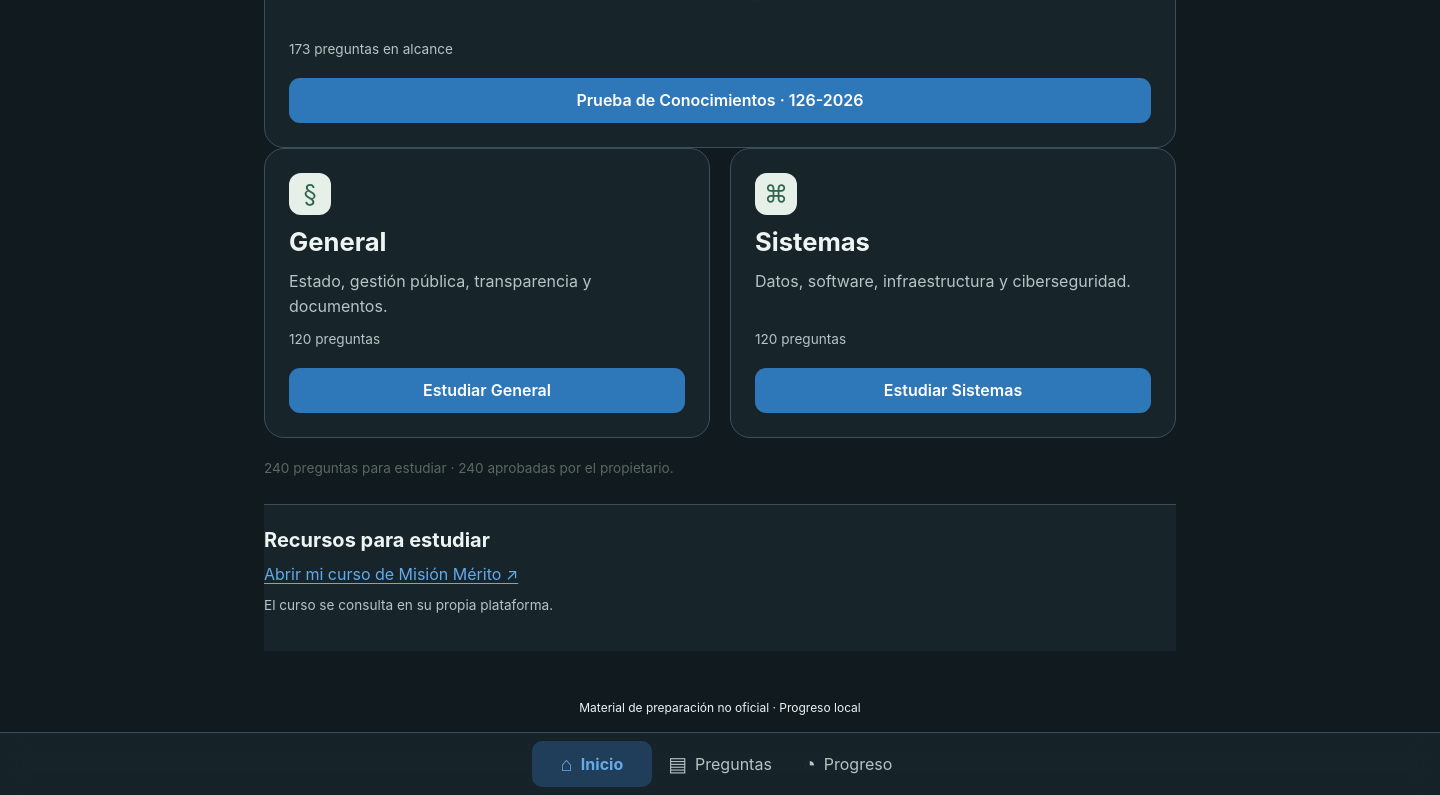
Test: estudio y simuladores móviles › filtra el estudio al alcance de la convocatoria
This screenshot has width=1440, height=795.
(page scrolled)
Click the button "Estudiar General": {"x": 487, "y": 391} [289,368,685,413]
(page scrolled)
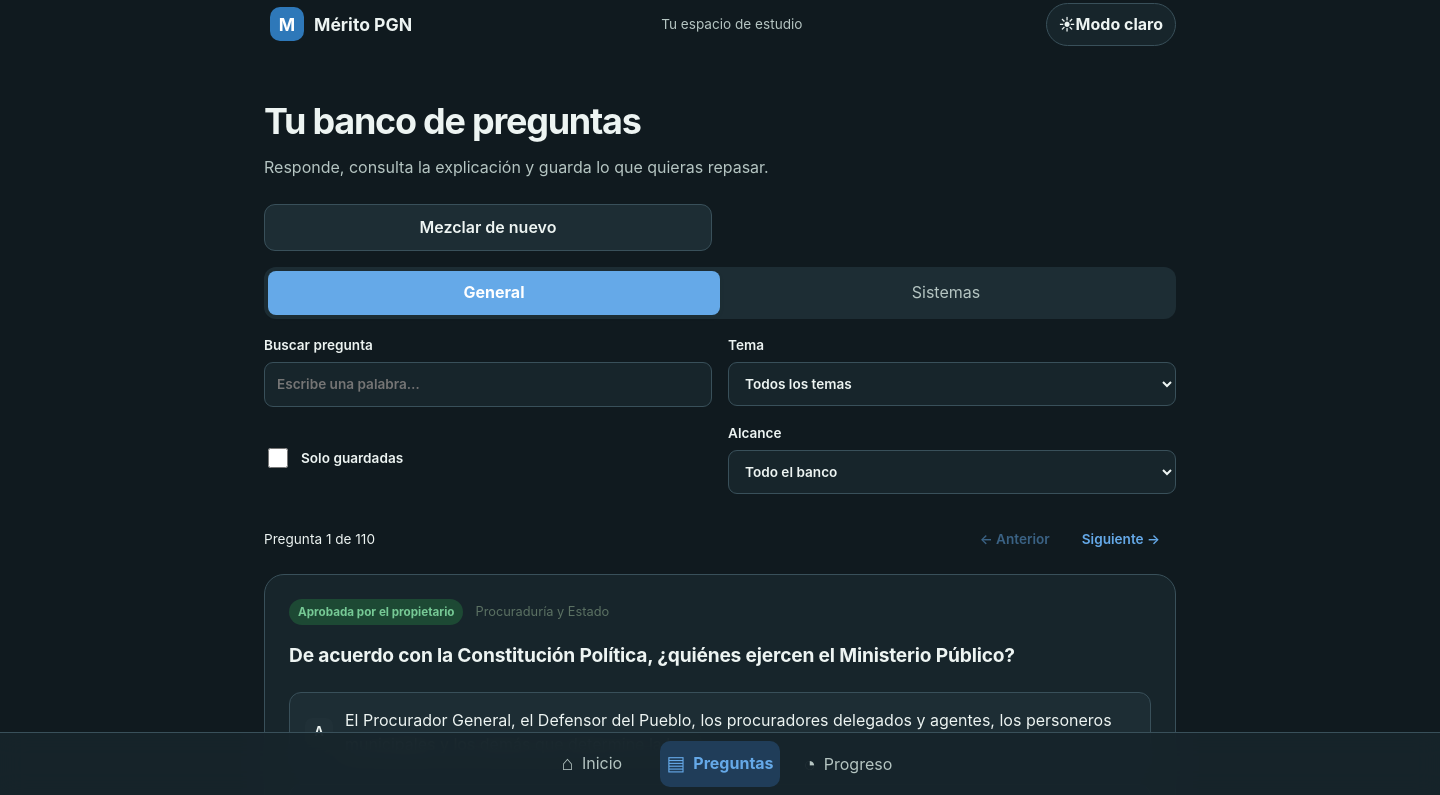
In the search field labelled "Buscar pregunta": {"x": 488, "y": 384} [264,362,712,407], type "En una licitación se oculta el informe de evaluación hasta adjudicar. ¿Qué derecho de los interesados se está impidiendo?"
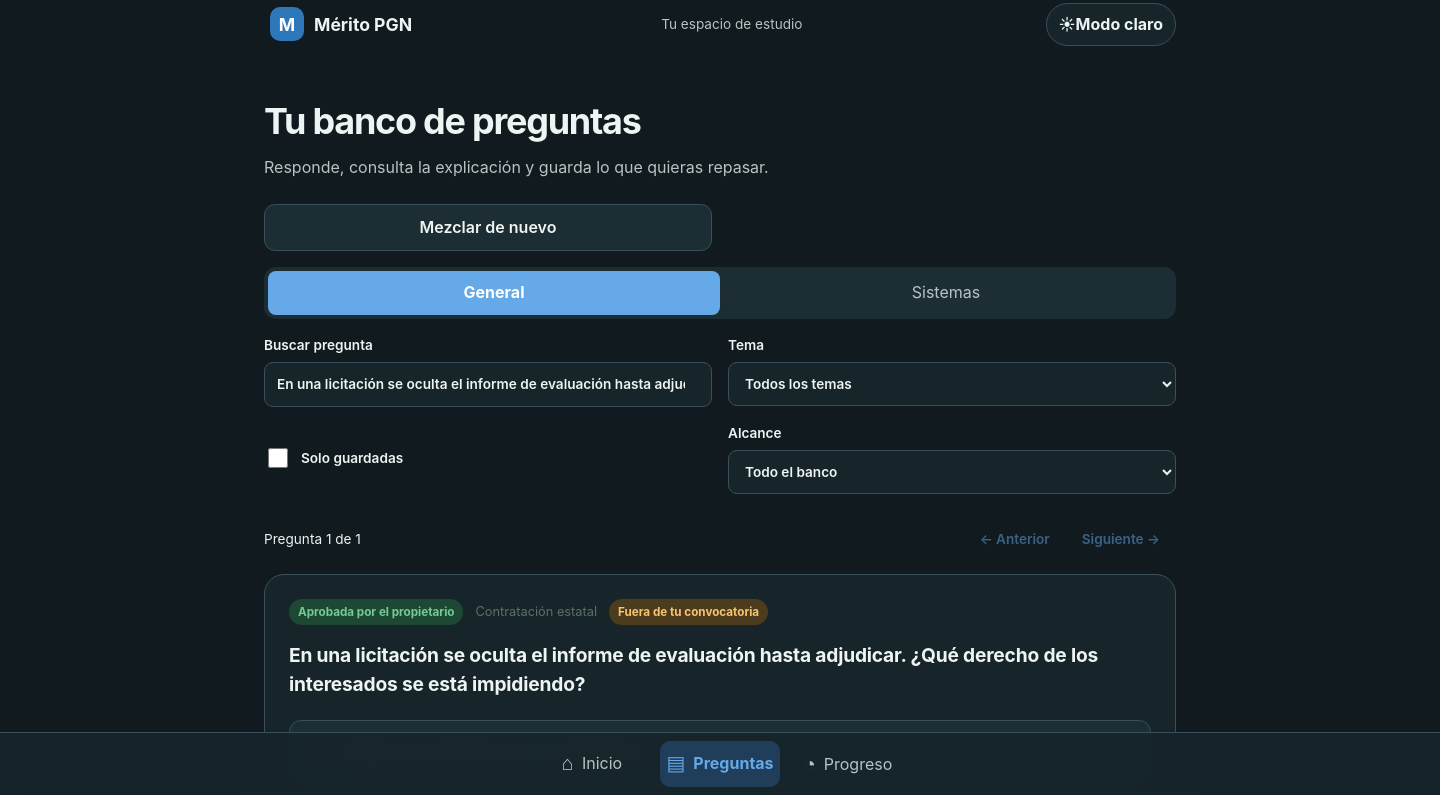
Now the heading named "En una licitación se oculta el informe de evaluación hasta adjudicar. ¿Qué derecho de los interesados se está impidiendo" is shown, box [289,641,1151,698]
Select "Solo mi convocatoria 126-2026" in the dropdown labelled "Alcance": {"x": 952, "y": 472} [728,450,1176,494]
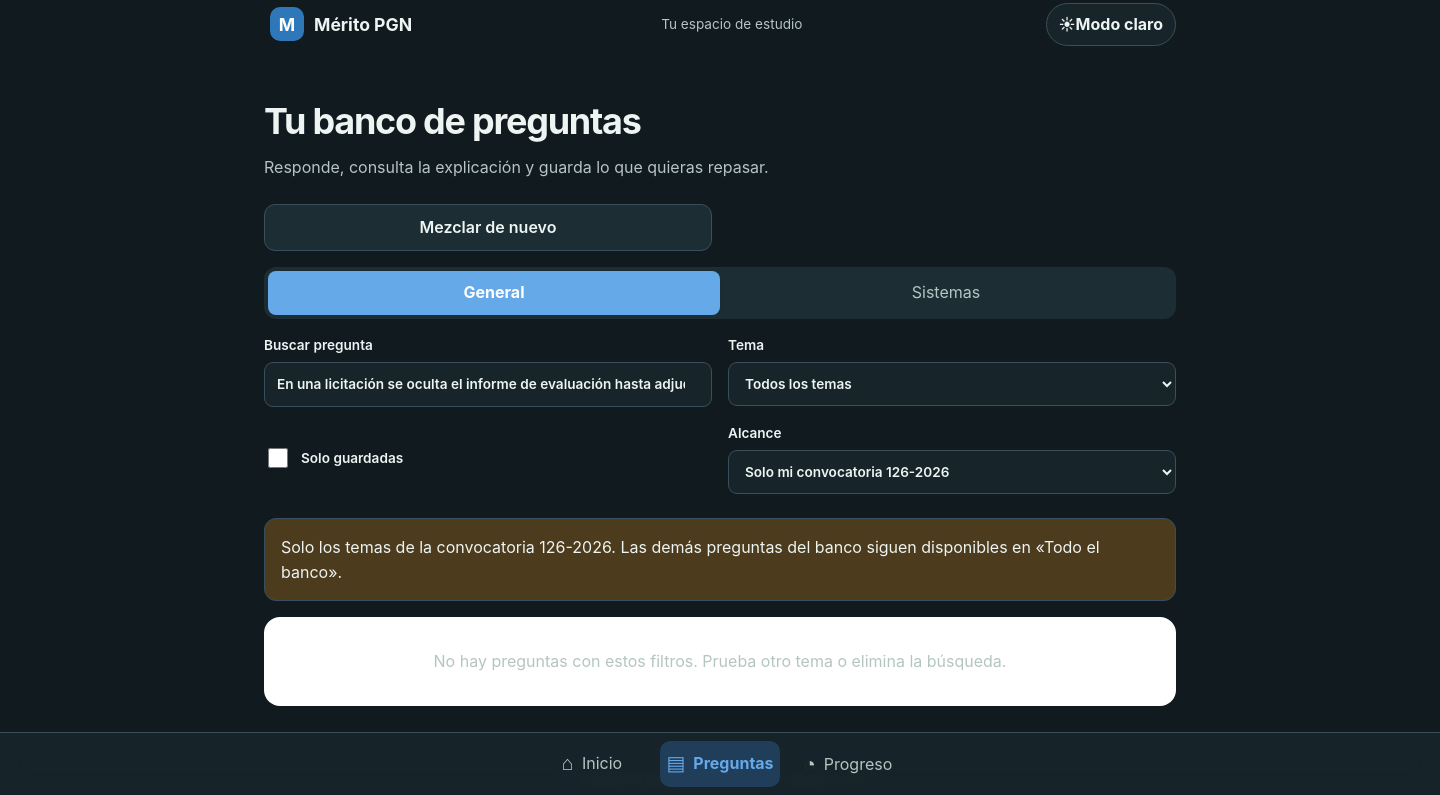
Now the text "Solo los temas de la convocatoria" is shown, box [281,537,535,557]
Now the heading "En una licitación se oculta el informe de evaluación hasta adjudicar. ¿Qué derecho de los interesados se está impidiendo" is gone
Now the text "No hay preguntas con estos filtros" is shown, box [434,651,1006,671]
Select "Todo el banco" in the dropdown labelled "Alcance": {"x": 952, "y": 472} [728,450,1176,494]
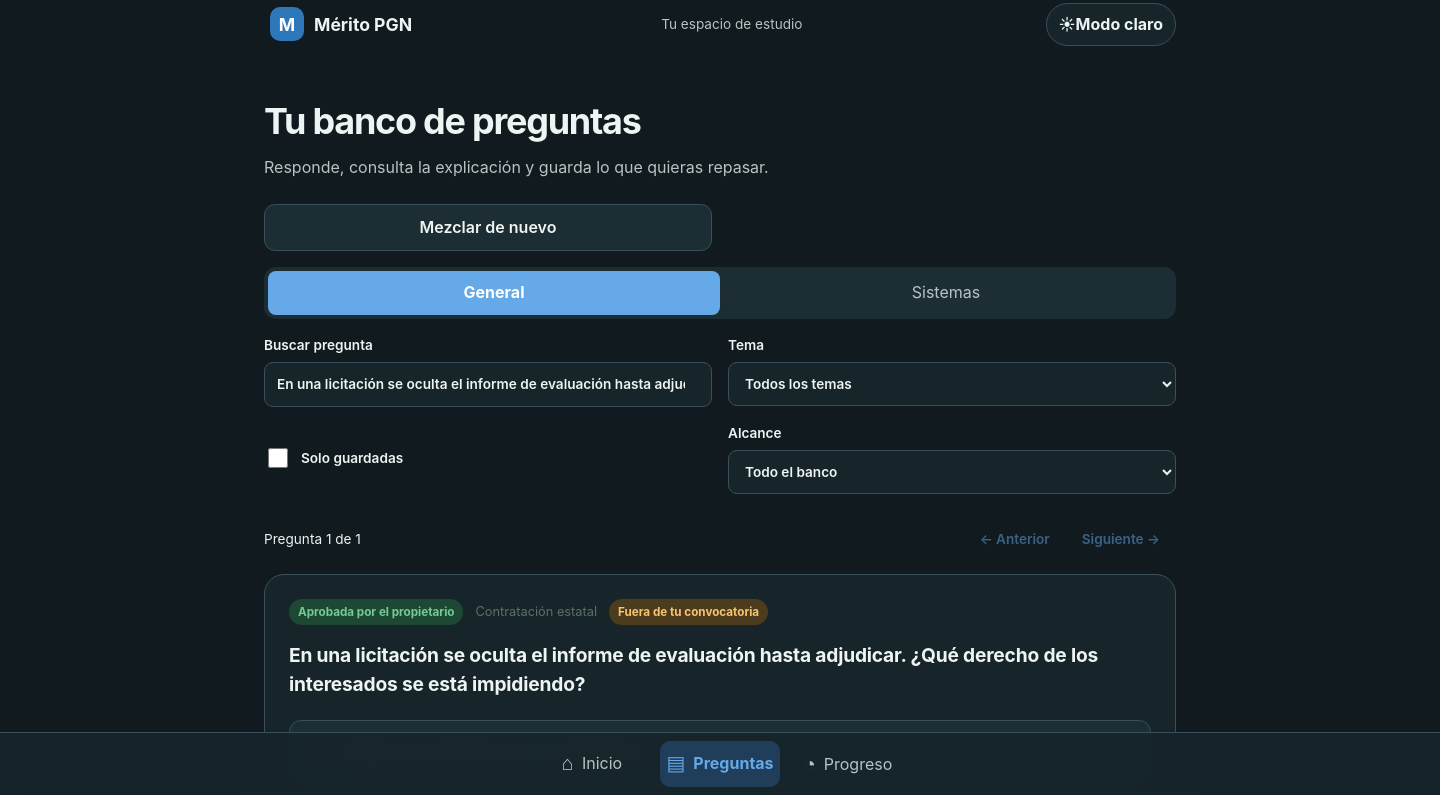
Now the heading named "En una licitación se oculta el informe de evaluación hasta adjudicar. ¿Qué derecho de los interesados se está impidiendo" is shown, box [289,641,1151,698]
